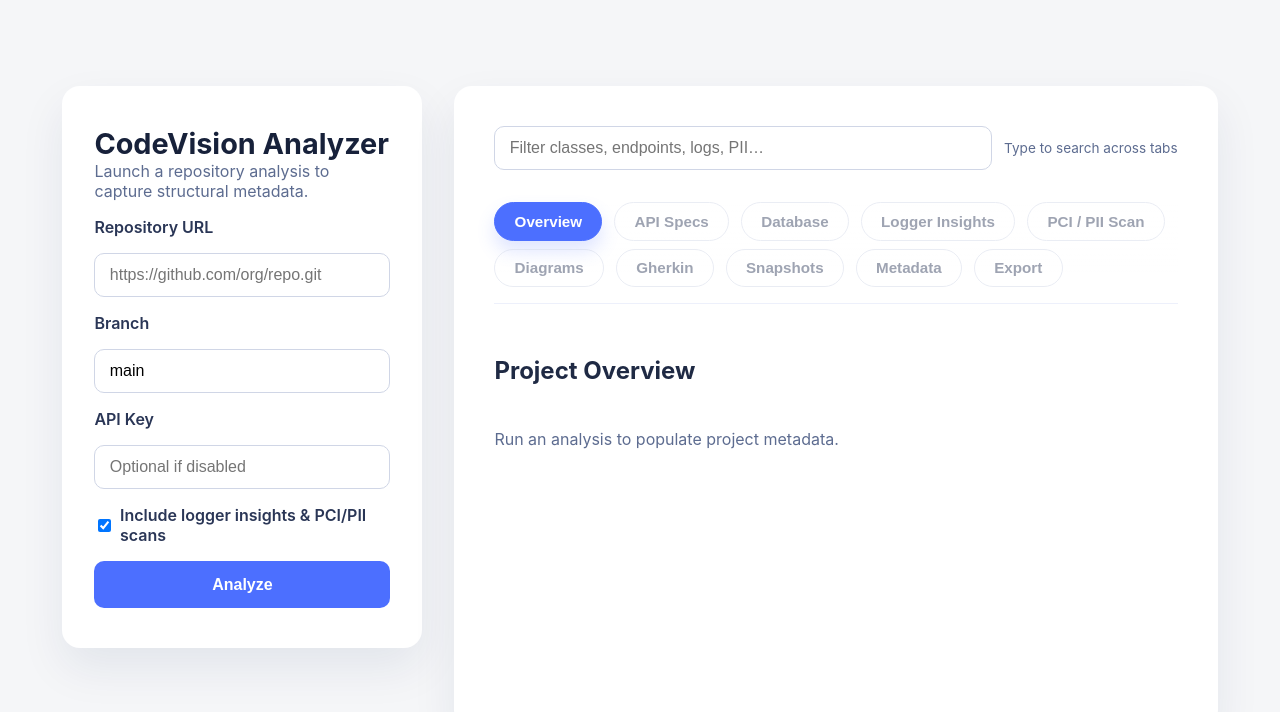
App › surfaces job failures returned by the poll endpoint
In the field labelled "Repository URL": [242, 275] box [94,253,390,297], type "https://example.com/org/repo.git"
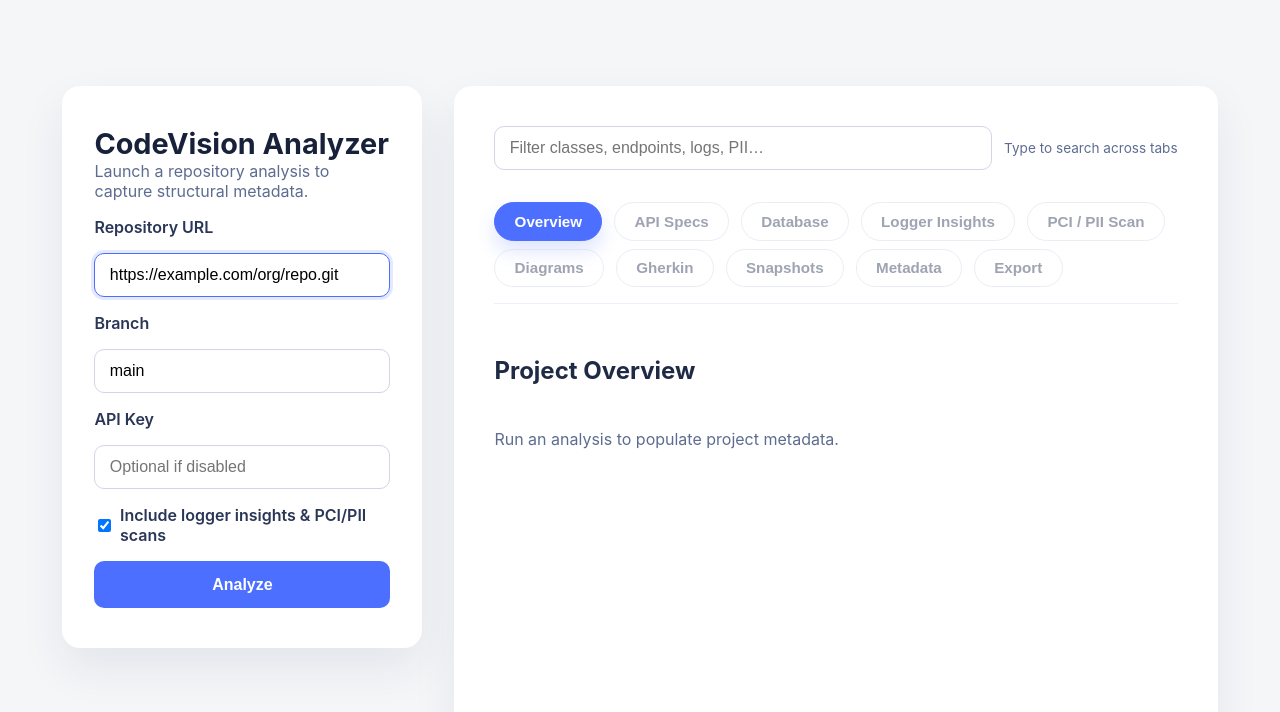
Click the button "Analyze": [242, 585] box [94,561,390,608]
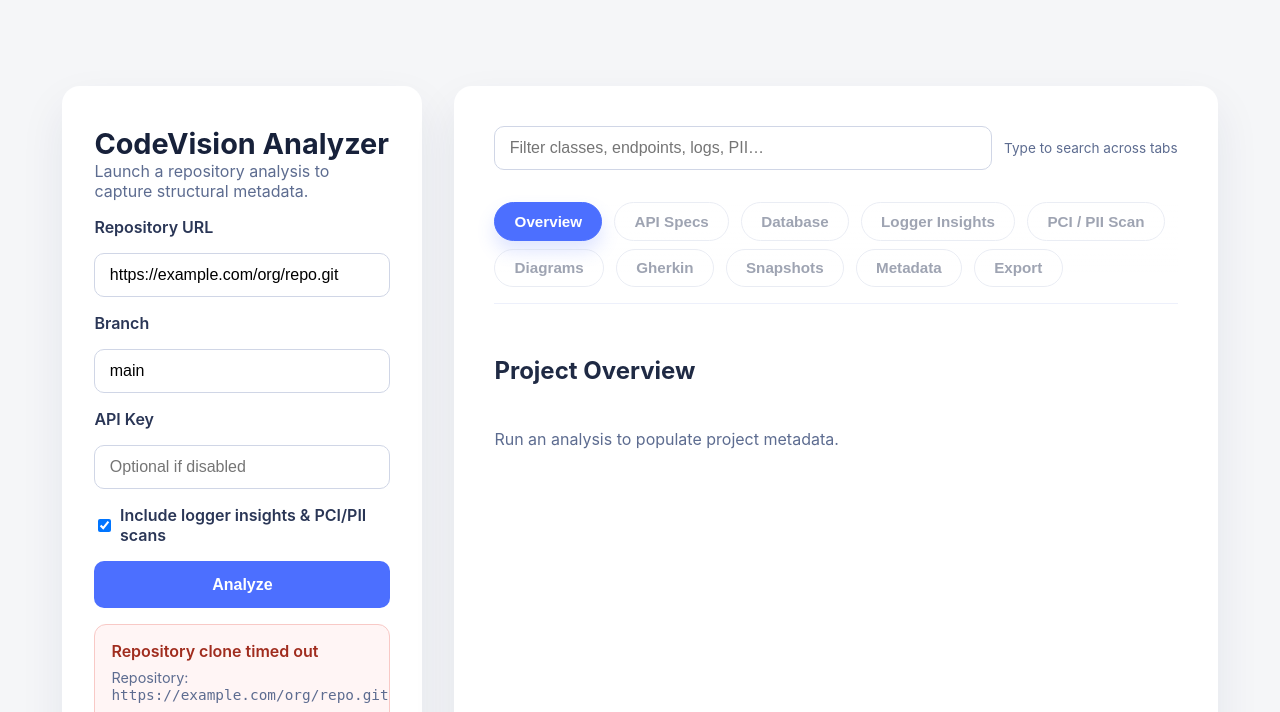
Expected: the text "Repository clone timed out" is shown, [111,641,318,661]
